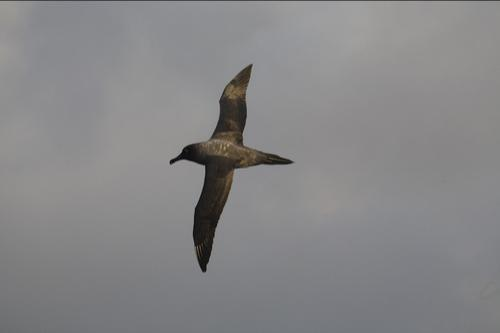bird: (162, 59, 296, 276)
